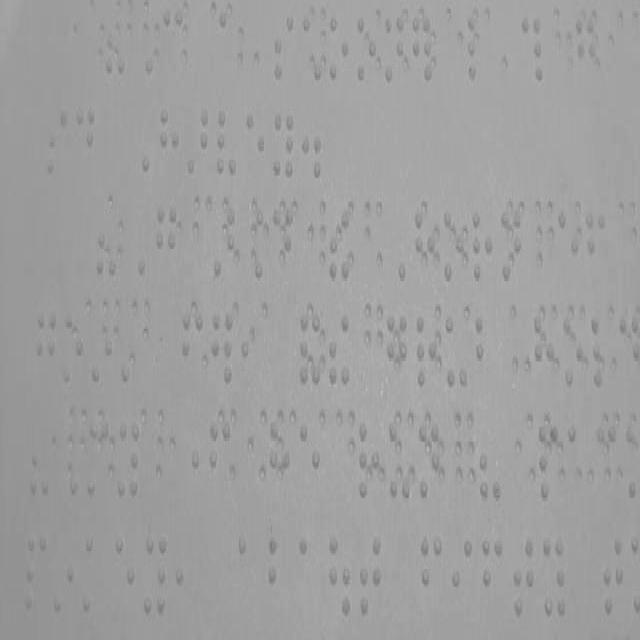braiile: (418, 529, 444, 627), (540, 530, 568, 621), (356, 528, 382, 624), (357, 413, 383, 507), (510, 531, 536, 625), (80, 530, 106, 621), (112, 530, 138, 621), (412, 200, 438, 289), (32, 302, 58, 391), (142, 530, 166, 626), (450, 532, 474, 628), (270, 1, 298, 83), (416, 416, 442, 504), (481, 533, 505, 627), (324, 2, 350, 87), (560, 311, 586, 396), (382, 8, 406, 99), (594, 420, 620, 504), (61, 304, 85, 394), (532, 306, 556, 396), (388, 416, 412, 504), (237, 528, 260, 619), (384, 310, 408, 397), (24, 530, 48, 617), (295, 532, 319, 619), (414, 306, 438, 392), (270, 202, 294, 287), (498, 204, 522, 289), (180, 302, 204, 387), (602, 532, 624, 624), (116, 418, 140, 502), (298, 416, 322, 500), (354, 8, 378, 90), (464, 6, 488, 88), (158, 97, 182, 179), (154, 199, 178, 281), (470, 204, 494, 286), (208, 417, 232, 499), (266, 531, 288, 620), (537, 416, 559, 504), (573, 11, 597, 91), (556, 205, 578, 292), (584, 203, 606, 290), (470, 308, 492, 394), (590, 308, 612, 394), (618, 308, 640, 394), (72, 103, 96, 181), (442, 202, 464, 287), (270, 419, 292, 501), (566, 421, 588, 503), (162, 1, 184, 79), (216, 103, 238, 181), (244, 105, 266, 183), (215, 3, 238, 77), (46, 104, 68, 180), (272, 109, 294, 184)
